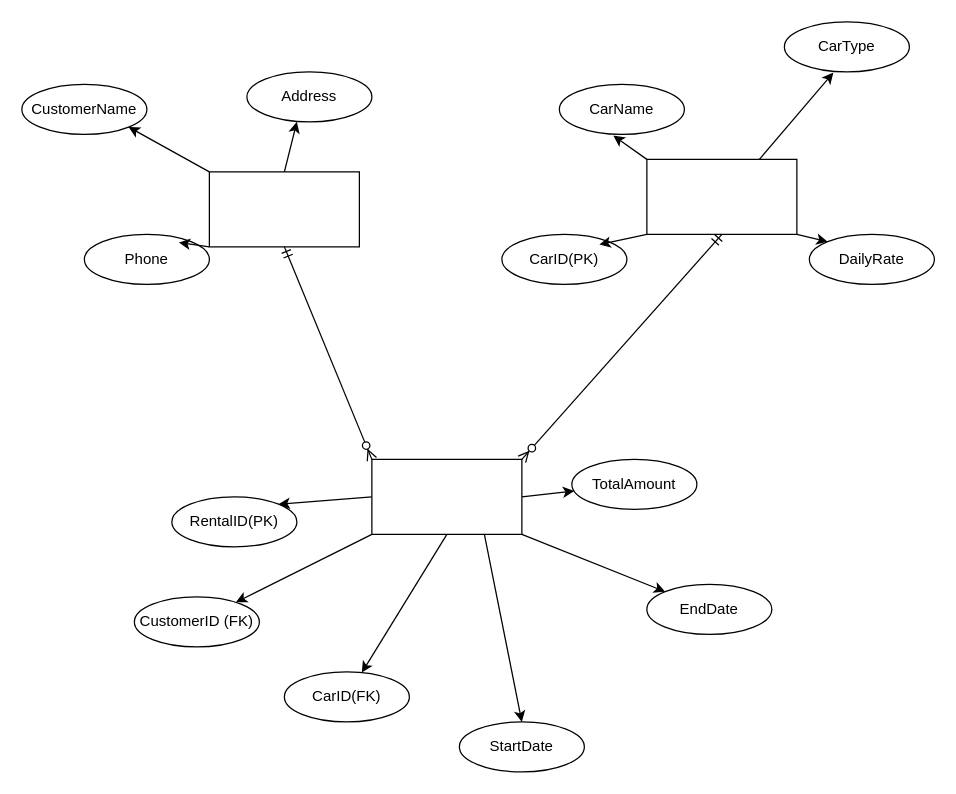
This 956x794 diagram has some shape labels left out. Here are the shapes that lost their labels. From the top down, the centre of each, then its label:
point (283, 209): CUSTOMER
point (721, 196): CAR
point (446, 496): RENTAL
